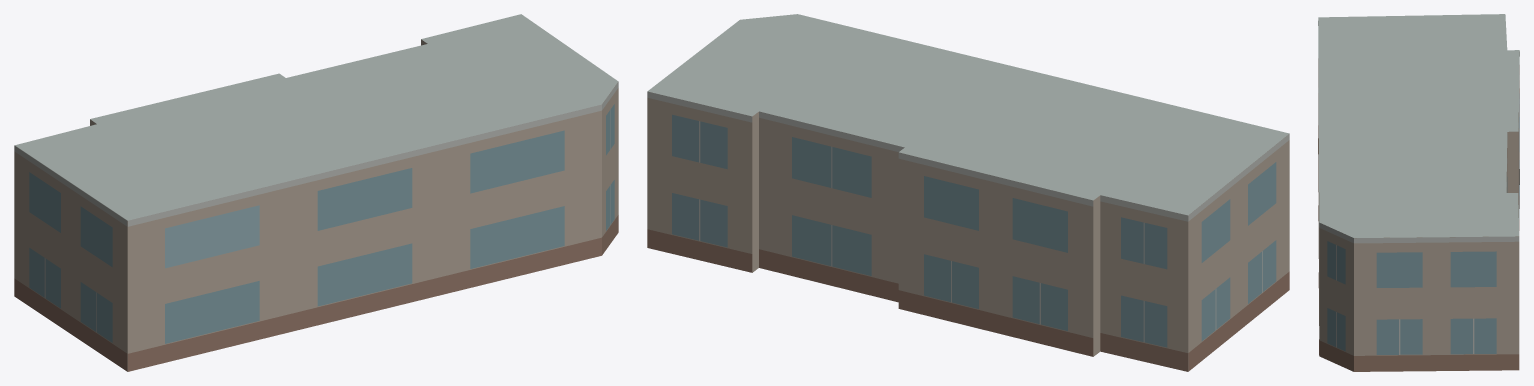
Rendered from survey-upis-32925382.glb.
3 renders of one model, left to right at view 1: azimuth 30°, elevation 25°; view 2: azimuth 150°, elevation 25°; view 3: azimuth 270°, elevation 25°, orthographic. The views are drawn at different scales.
Visible parts, largest first — view 1: survey-upis-32925382.tmp; view 2: survey-upis-32925382.tmp; view 3: survey-upis-32925382.tmp.
Boxes of the visible parts, bbox=[...] form: survey-upis-32925382.tmp: bbox=[14, 14, 618, 371]; survey-upis-32925382.tmp: bbox=[647, 14, 1289, 371]; survey-upis-32925382.tmp: bbox=[1318, 14, 1519, 371].
Bounding box in the file's own units: 21.92 × 6.1 × 8.33.
